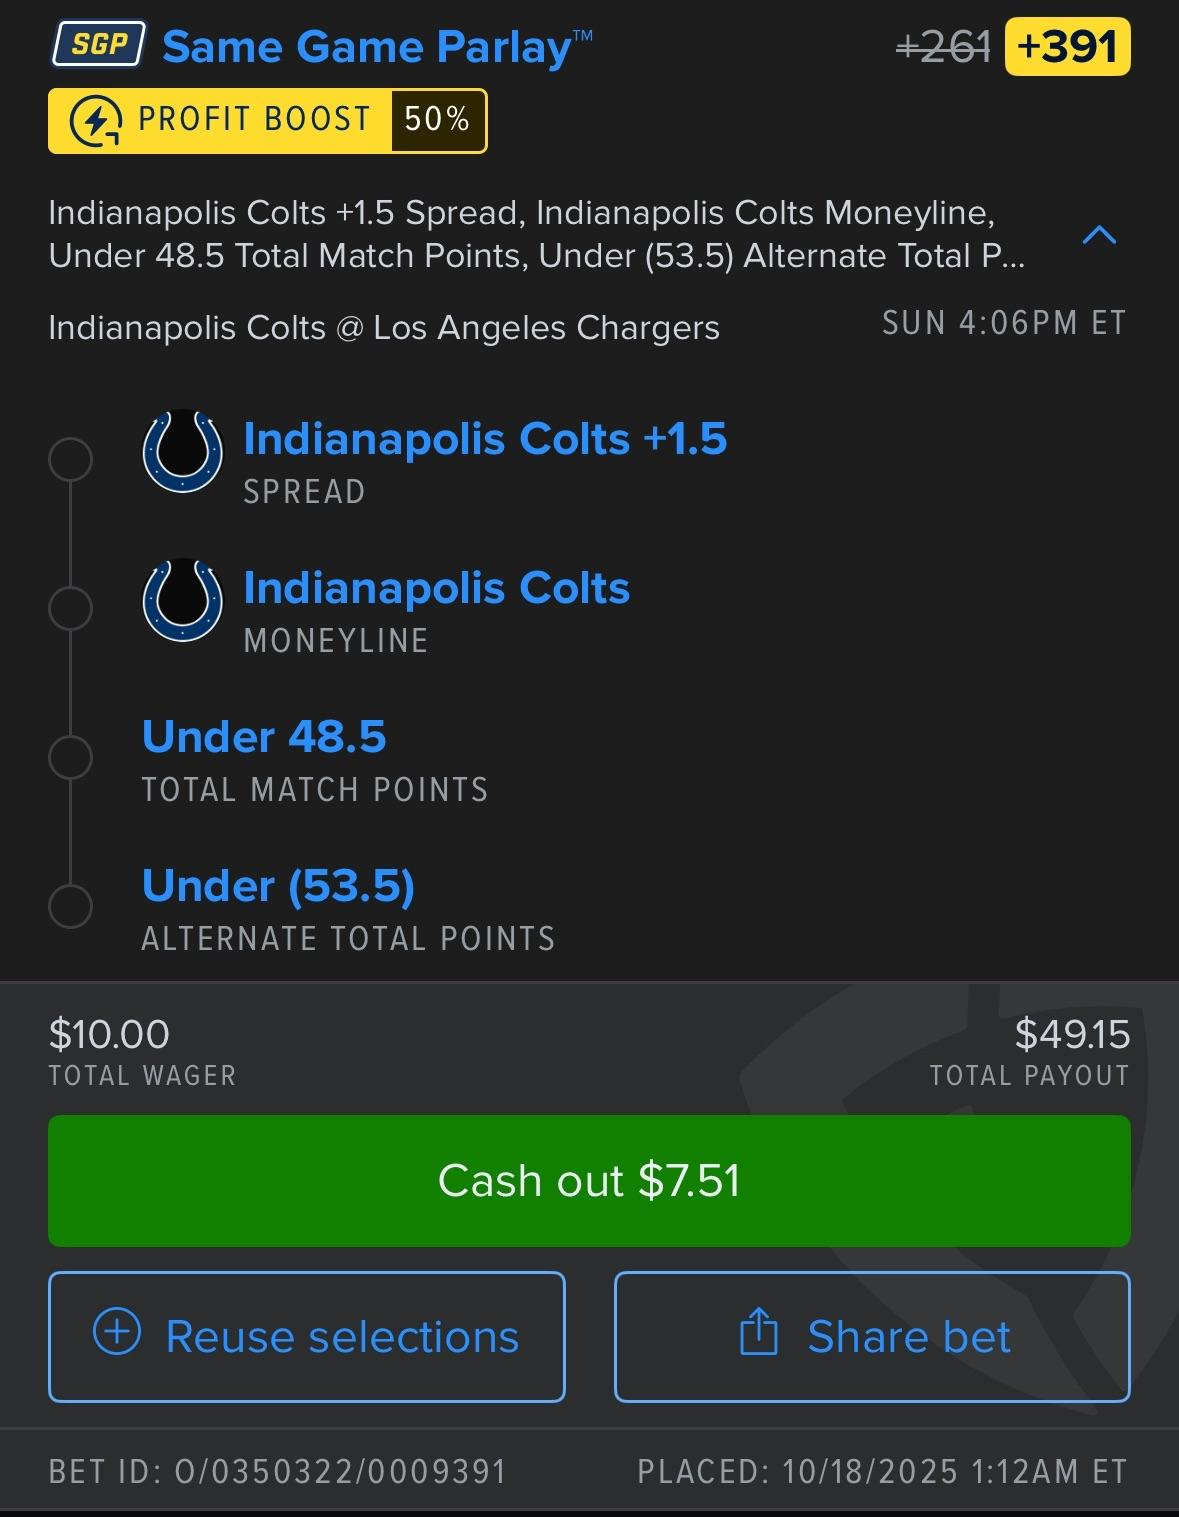game: (44, 300, 728, 354)
odds: (1010, 22, 1132, 74)
payout: (1010, 1010, 1138, 1058)
wager: (50, 1002, 172, 1060)
